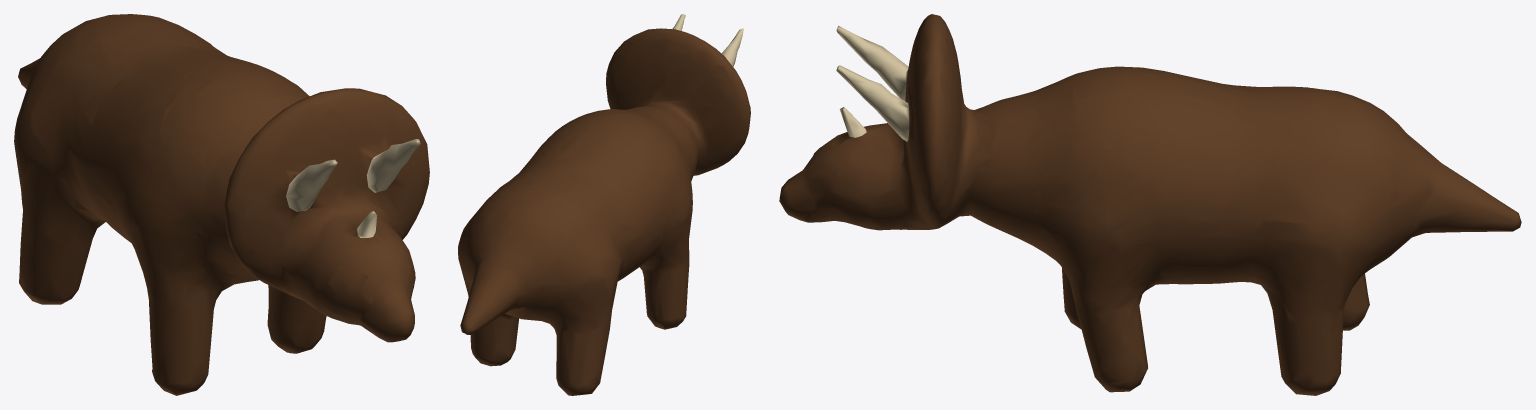
File: sdf_ceratopsian.obj
3 views of the same model, side by side, from view 1: azimuth 30°, elevation 25°; view 2: azimuth 150°, elevation 25°; view 3: azimuth 270°, elevation 25° (orthographic). The views are drawn at different scales.
Parts seen in each view (by area): view 1: sdf_ceratopsian; view 2: sdf_ceratopsian; view 3: sdf_ceratopsian.
Part boxes in pixels (x1,y1,x2,y2): sdf_ceratopsian: (14, 14, 429, 395); sdf_ceratopsian: (458, 14, 750, 395); sdf_ceratopsian: (779, 14, 1521, 395).
Size of the model in its own units: 1.63 by 2.5 by 5.09.
